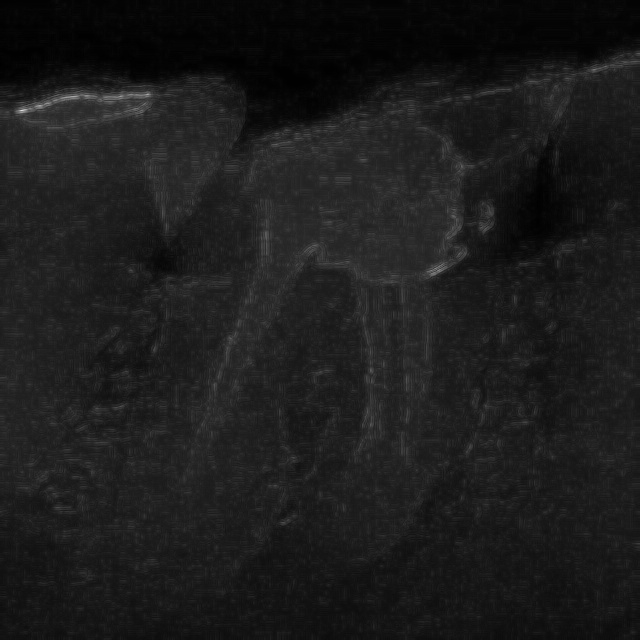Class 1- complete endodontic treatment: (105, 90, 549, 605)
